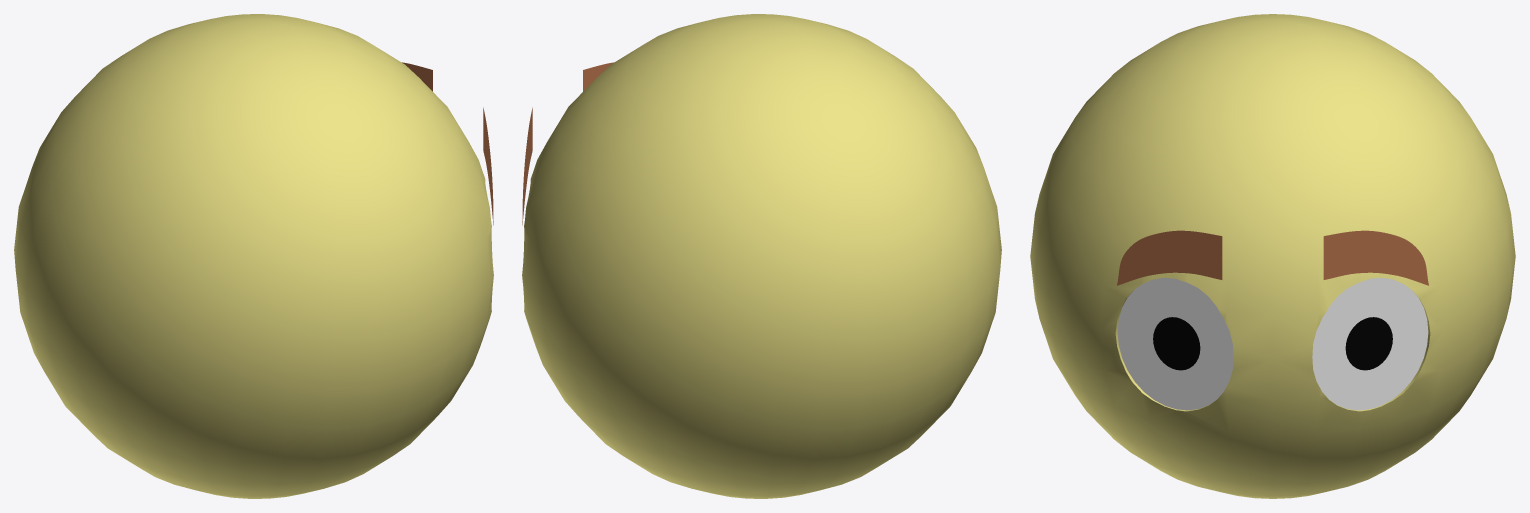
The model's file is HAPPY.fbx.
3 renders of one model, left to right at view 1: azimuth 30°, elevation 25°; view 2: azimuth 150°, elevation 25°; view 3: azimuth 270°, elevation 25°, orthographic.
Parts seen in each view (by area): view 1: Sphere, Sphere.001; view 2: Sphere, Sphere.001; view 3: Sphere, Sphere.001, Cylinder, Cylinder.001, Cylinder.003, BézierCurve.002, BézierCurve.001, Cylinder.002.
Part boxes in pixels (x1,y1,x2,y2): Sphere: [14, 14, 493, 498]; Sphere.001: [15, 16, 493, 498]; Sphere: [522, 16, 1000, 498]; Sphere.001: [522, 14, 1001, 498]; Sphere: [1031, 14, 1515, 498]; Sphere.001: [1030, 14, 1515, 498]; Cylinder: [1117, 277, 1233, 410]; Cylinder.001: [1312, 277, 1428, 408]; Cylinder.003: [1312, 285, 1428, 410]; BézierCurve.002: [1117, 230, 1222, 285]; BézierCurve.001: [1323, 230, 1428, 285]; Cylinder.002: [1117, 278, 1233, 410].
Size of the model in its own units: 25 by 25 by 25.
